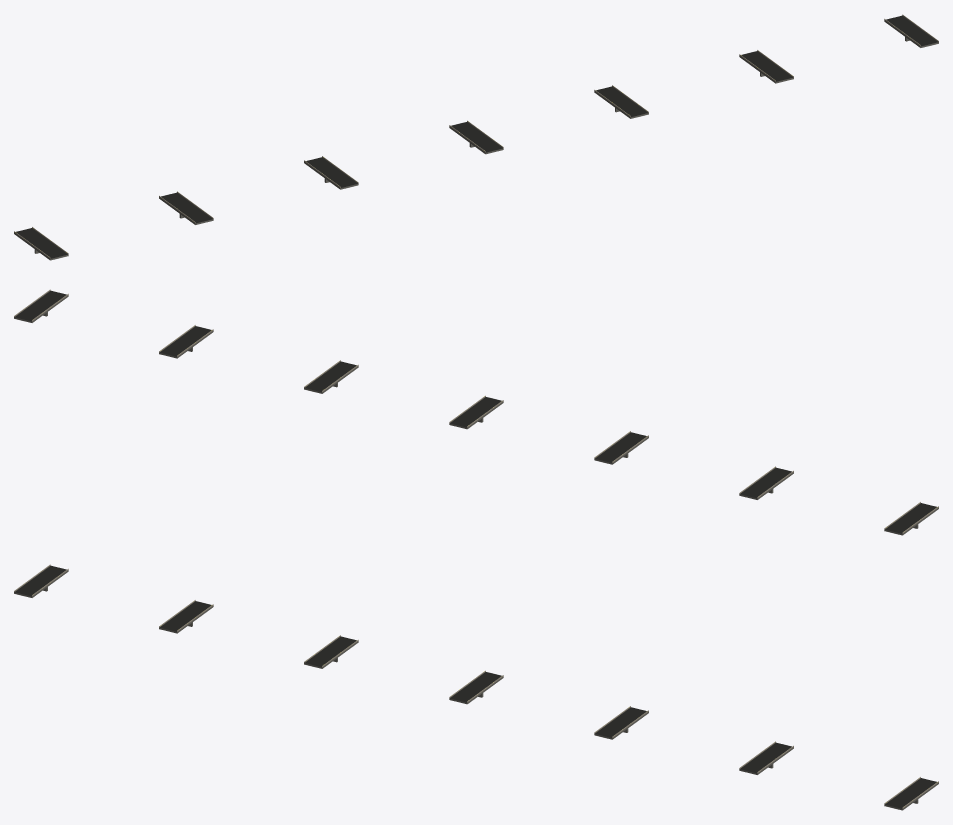
File: City_Bridges.fbx
The picture shows the model from 3 angles, top to bottom: view 1: azimuth 30°, elevation 25°; view 2: azimuth 150°, elevation 25°; view 3: azimuth 330°, elevation 25°; orthographic projection.
Parts seen in each view (by area): view 1: City_Bridges_LOD0; view 2: City_Bridges_LOD0; view 3: City_Bridges_LOD0.
Boxes of the visible parts, x1,y1,x2,y2 form: City_Bridges_LOD0: [14, 14, 938, 260]; City_Bridges_LOD0: [14, 289, 938, 535]; City_Bridges_LOD0: [14, 564, 938, 810].
Size of what is drawn, in the model's own units: 875 by 9.35 by 62.
